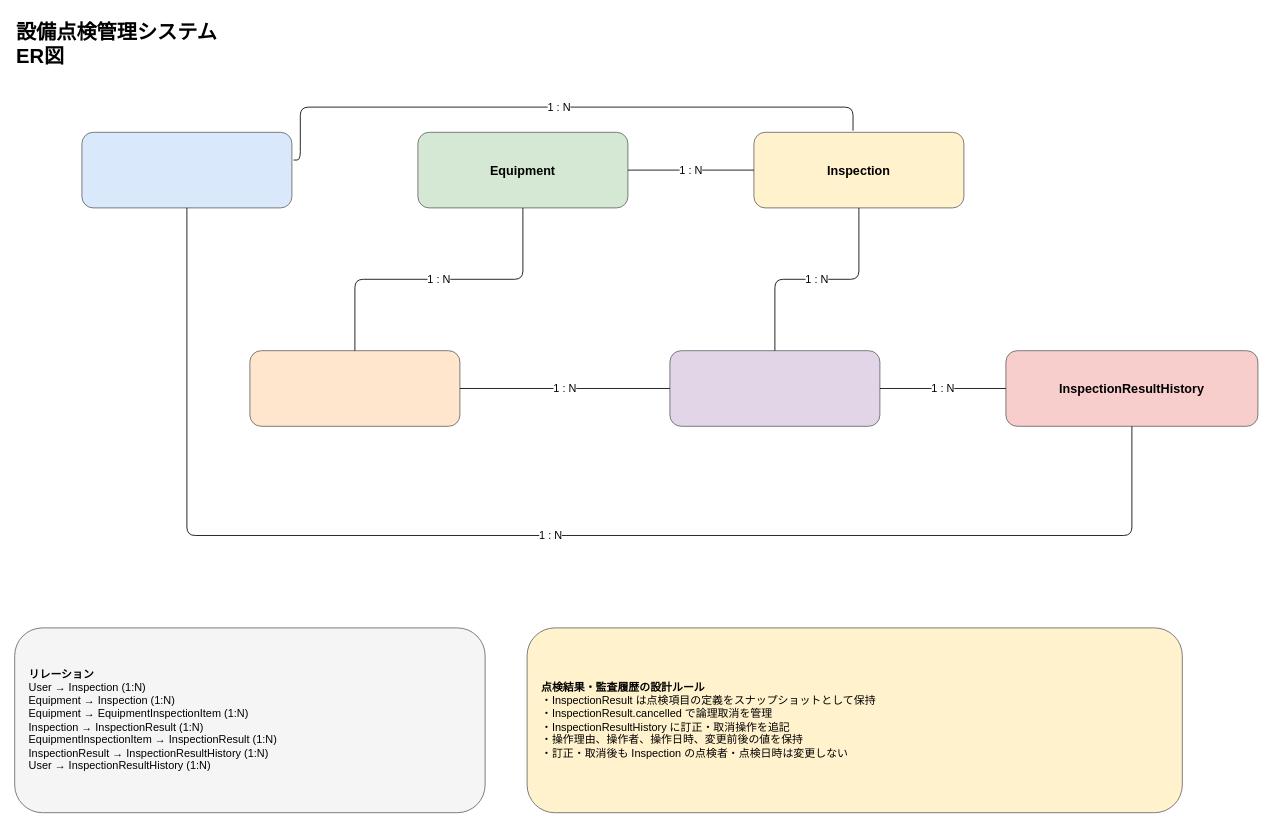
The diagram is 1273 pixels wide and 827 high, and some of its shapes have lost their labels. Each missing label, with the centre of its shape:
EquipmentInspectionItem: [354,388]
InspectionResult: [774,388]
User: [186,169]
